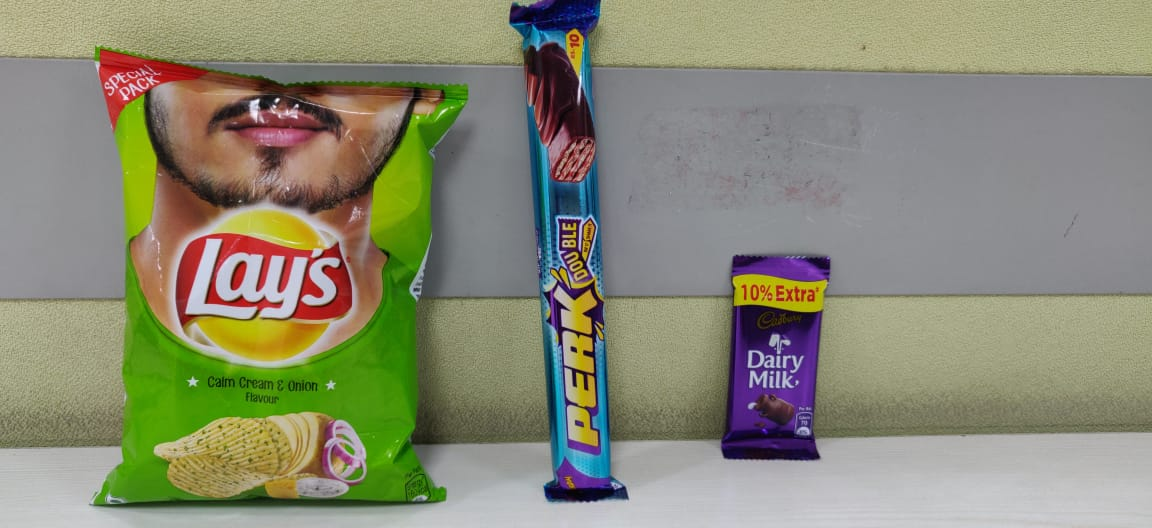dairy milk: (714, 251, 843, 477)
lays chips: (84, 38, 477, 519)
perk: (504, 1, 630, 504)
